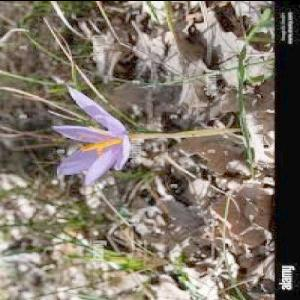Saffron: (54, 87, 132, 181)
